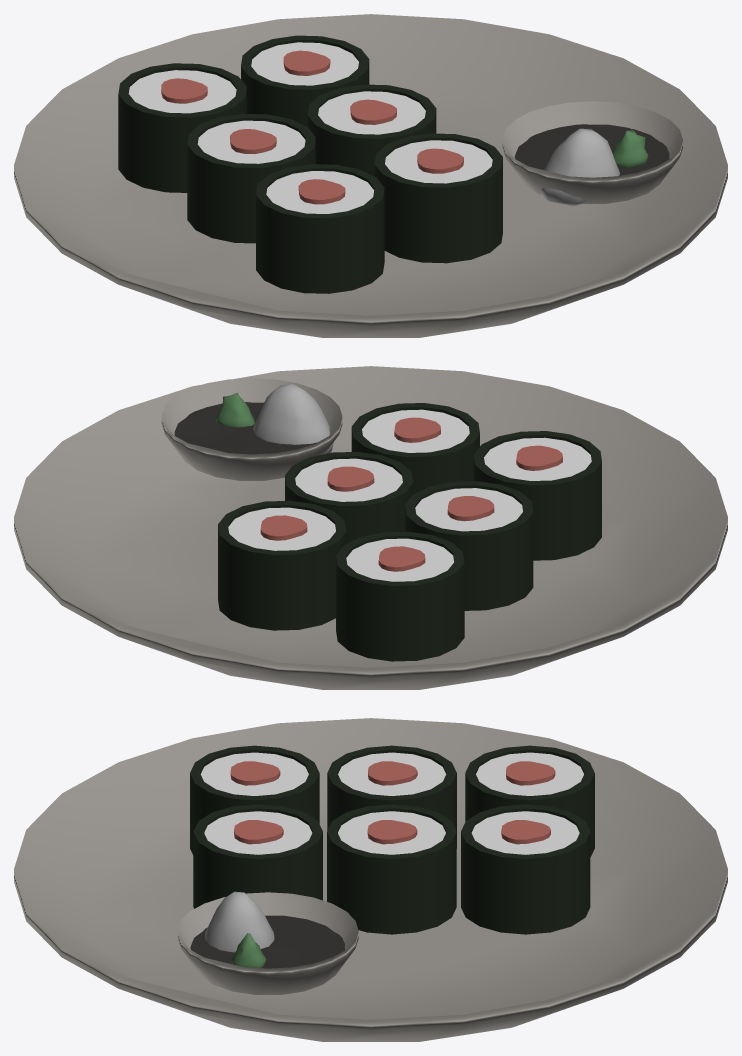
The model's file is salmon roll plate.fbx.
The picture shows the model from 3 angles, top to bottom: view 1: azimuth 30°, elevation 25°; view 2: azimuth 150°, elevation 25°; view 3: azimuth 270°, elevation 25°; orthographic projection.
Visible parts, largest first — view 1: salmon_roll_plate; view 2: salmon_roll_plate; view 3: salmon_roll_plate.
Part boxes in pixels (bbox=[...]): salmon_roll_plate: bbox=[14, 14, 727, 337]; salmon_roll_plate: bbox=[14, 366, 727, 689]; salmon_roll_plate: bbox=[14, 718, 727, 1041].
Bounding box in the file's own units: 62.2 × 9.9 × 62.2.
